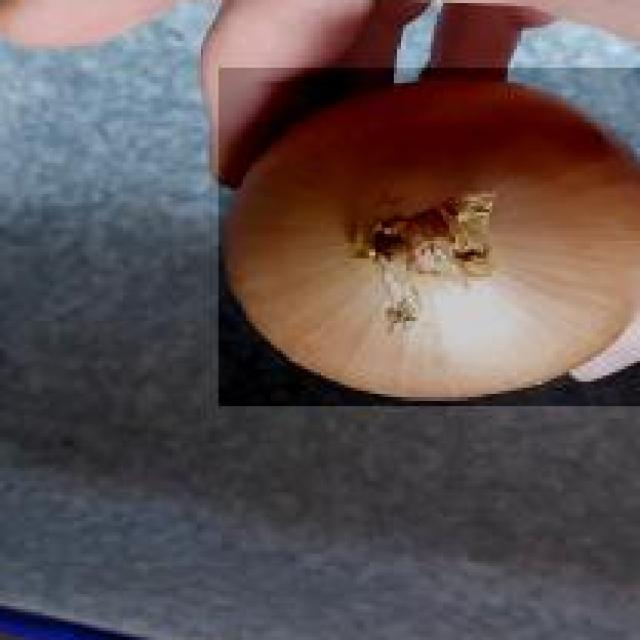onion: (215, 68, 640, 409)
